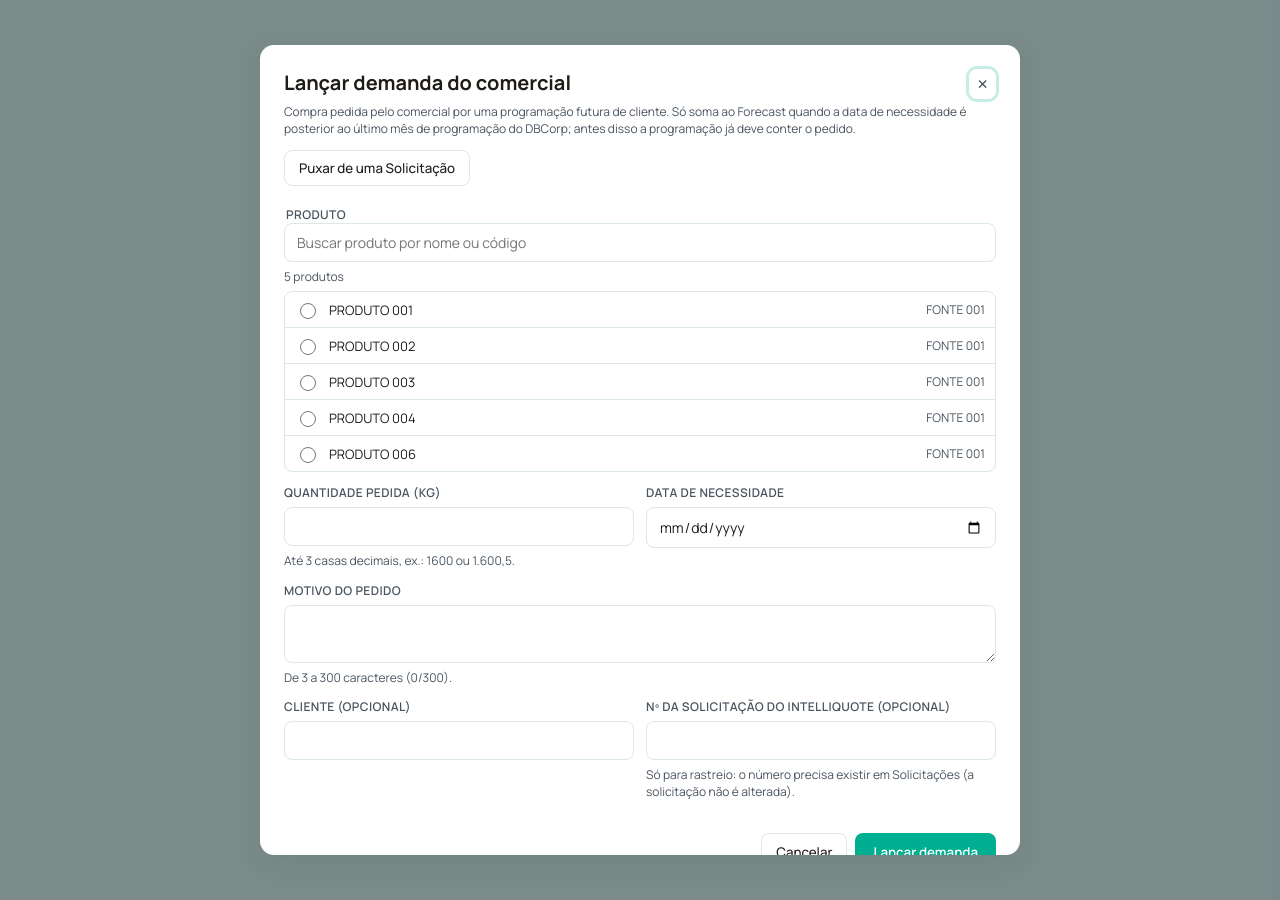
it: ForecastPuxarSolicitacao - painel › C7: item sem produto, ambiguo, inativo ou acima do maximo fica desabilitado com o motivo
Expected: the text "5 produtos" is shown, [284,268,344,285]
Click the button "Puxar de uma Solicitação" at (377, 168), box [284,150,470,186]
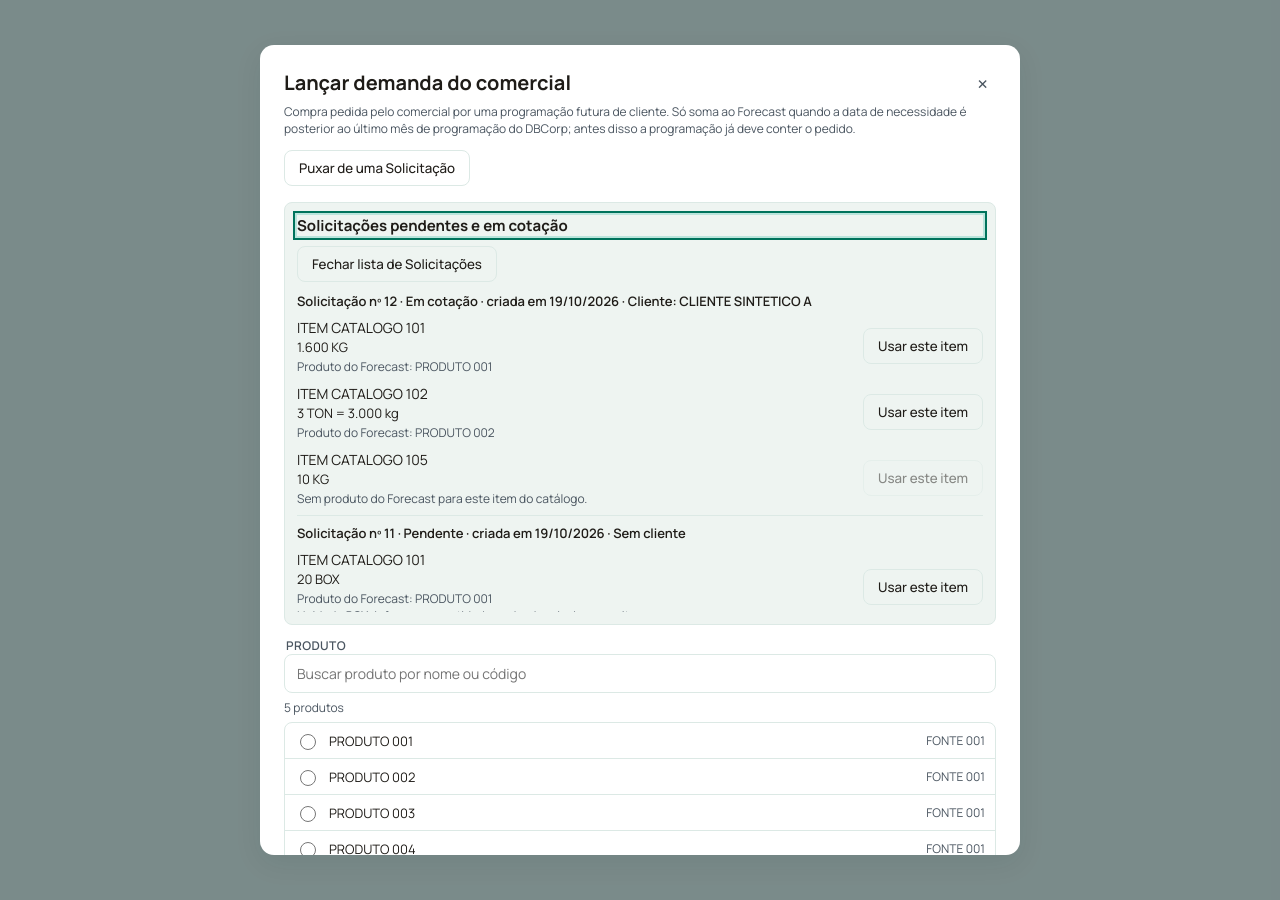
Now the text "Solicitação nº 12 · Em cotação · criada em 19/10/2026 · Cliente: CLIENTE SINTETICO A" is shown, box [297,292,812,310]
Now the text "Sem produto do Forecast para este item do catálogo." is shown, box [297,490,587,507]
